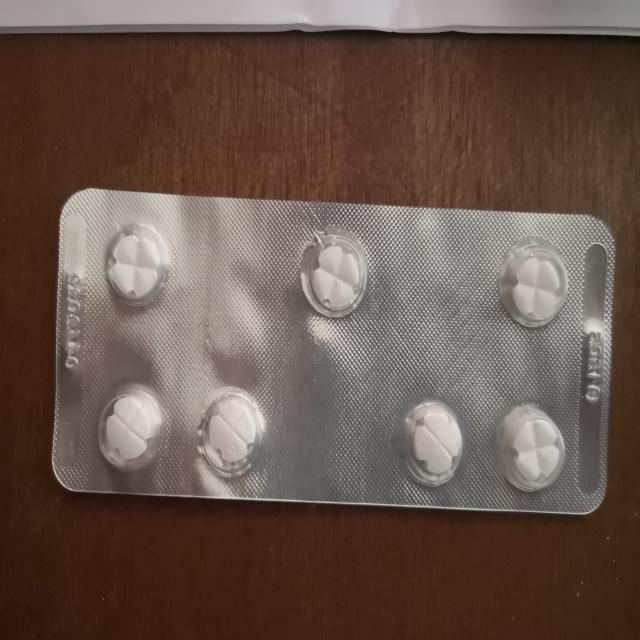Pill: (390, 389, 474, 492), (494, 236, 578, 334), (294, 222, 375, 320), (492, 403, 569, 495), (99, 218, 170, 311), (93, 386, 165, 475), (196, 384, 260, 483)
